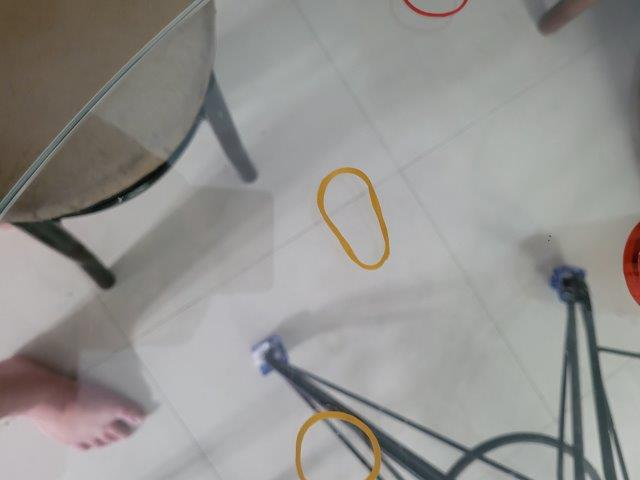karet: (315, 168, 392, 270), (297, 411, 382, 480)
